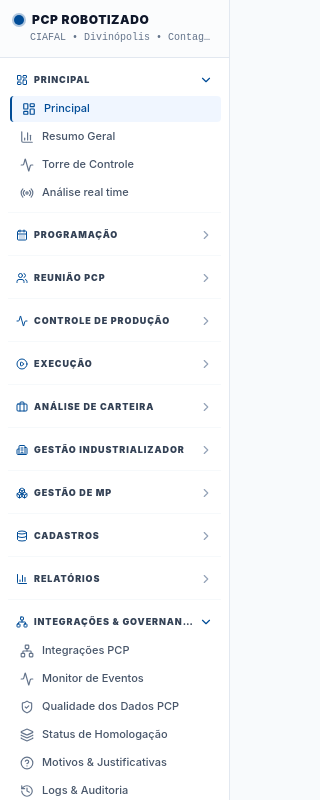
Test: PCPNavigation — Controle de Produção Submenu Acceptance Suite › 2. Teste de DOM e renderização dos 4 subitens: após expandir CONTROLE DE PRODUÇÃO para perfil PCP_PROGRAMMER
// Clica para expandir caso colapsado
Click the button with test id "nav-group-header-CONTROLE DE PRODUÇÃO" at [114, 321], box [16,314,213,328]
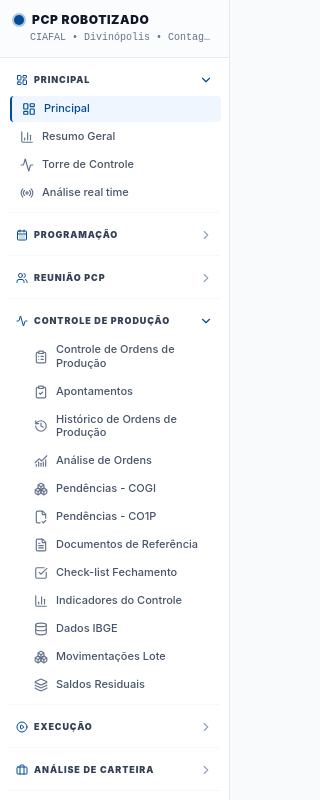
Result: the text "Controle de Ordens de Produção" is shown at [56,342,175,370]
Result: the text "Apontamentos" is shown at [56,384,133,398]
Result: the text "Histórico de Ordens de Produção" is shown at [56,412,177,439]
